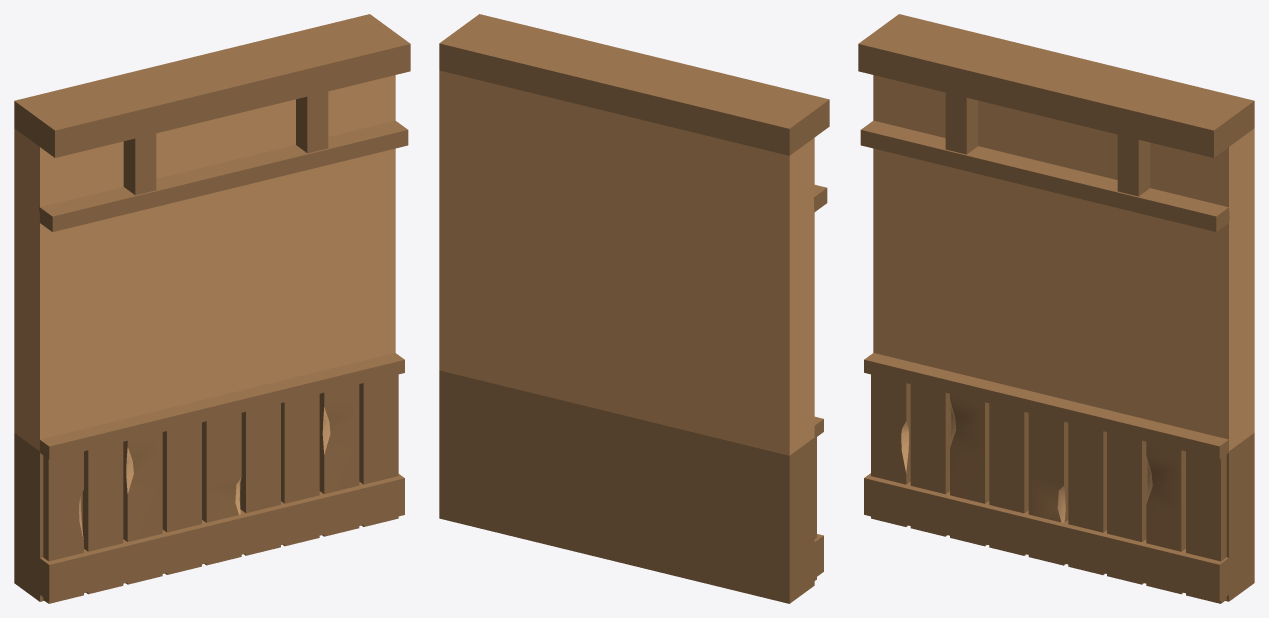
The model's file is wall.glb.
The picture shows the model from 3 angles, left to right: view 1: azimuth 30°, elevation 25°; view 2: azimuth 150°, elevation 25°; view 3: azimuth 330°, elevation 25°; orthographic projection.
Visible parts, largest first — view 1: Wall_Normal; view 2: Wall_Normal; view 3: Wall_Normal.
Part boxes in pixels (left/top/right/bottom): Wall_Normal: left=14, top=14, right=410, bottom=603; Wall_Normal: left=439, top=14, right=829, bottom=603; Wall_Normal: left=858, top=14, right=1254, bottom=603.
Bounding box in the file's own units: 4 × 5.18 × 0.7952.
1 material, 1 textured.
